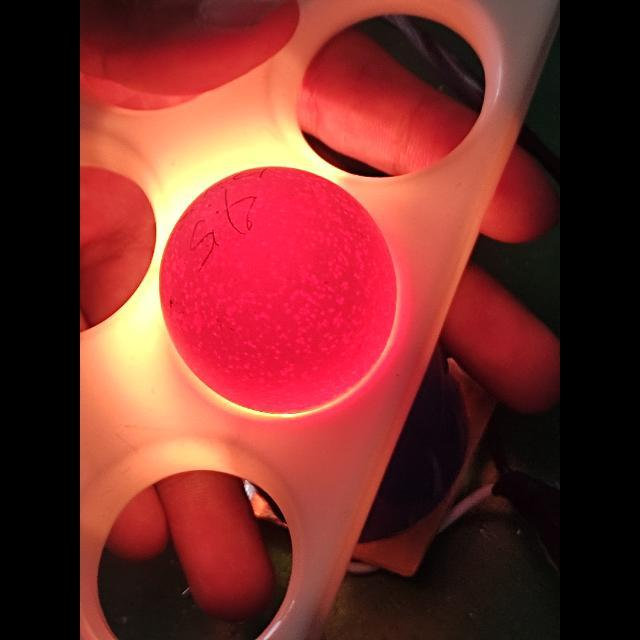Infertile: (165, 167, 397, 409)
